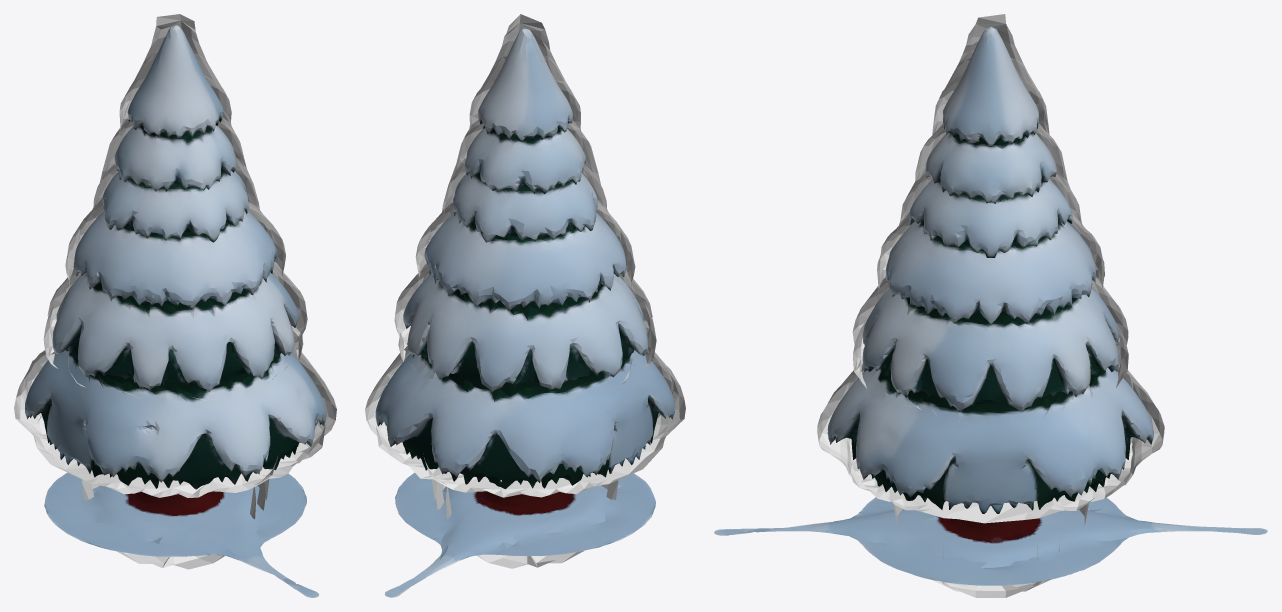
File: Tundra_SnowPine.glb
3 renders of one model, left to right at view 1: azimuth 30°, elevation 25°; view 2: azimuth 150°, elevation 25°; view 3: azimuth 270°, elevation 25°, orthographic. The views are drawn at different scales.
Parts seen in each view (by area): view 1: Tundra_SnowPine_v2, Tundra_SnowPine_v2_OutlineHull; view 2: Tundra_SnowPine_v2, Tundra_SnowPine_v2_OutlineHull; view 3: Tundra_SnowPine_v2, Tundra_SnowPine_v2_OutlineHull.
Boxes of the visible parts, box(x1,y1,x2,y2) form: Tundra_SnowPine_v2: box(25, 25, 326, 597); Tundra_SnowPine_v2_OutlineHull: box(14, 14, 336, 569); Tundra_SnowPine_v2: box(375, 28, 675, 597); Tundra_SnowPine_v2_OutlineHull: box(365, 14, 685, 568); Tundra_SnowPine_v2: box(714, 27, 1267, 585); Tundra_SnowPine_v2_OutlineHull: box(817, 14, 1164, 597).
Bounding box in the file's own units: 1.88 × 3.81 × 3.41.
2 materials, 1 textured.
